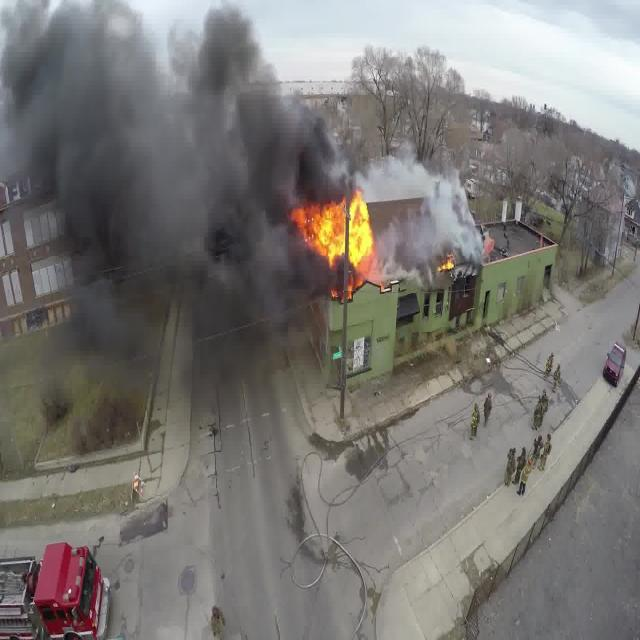Fire: (290, 194, 377, 270)
Smoke: (0, 1, 489, 366)
